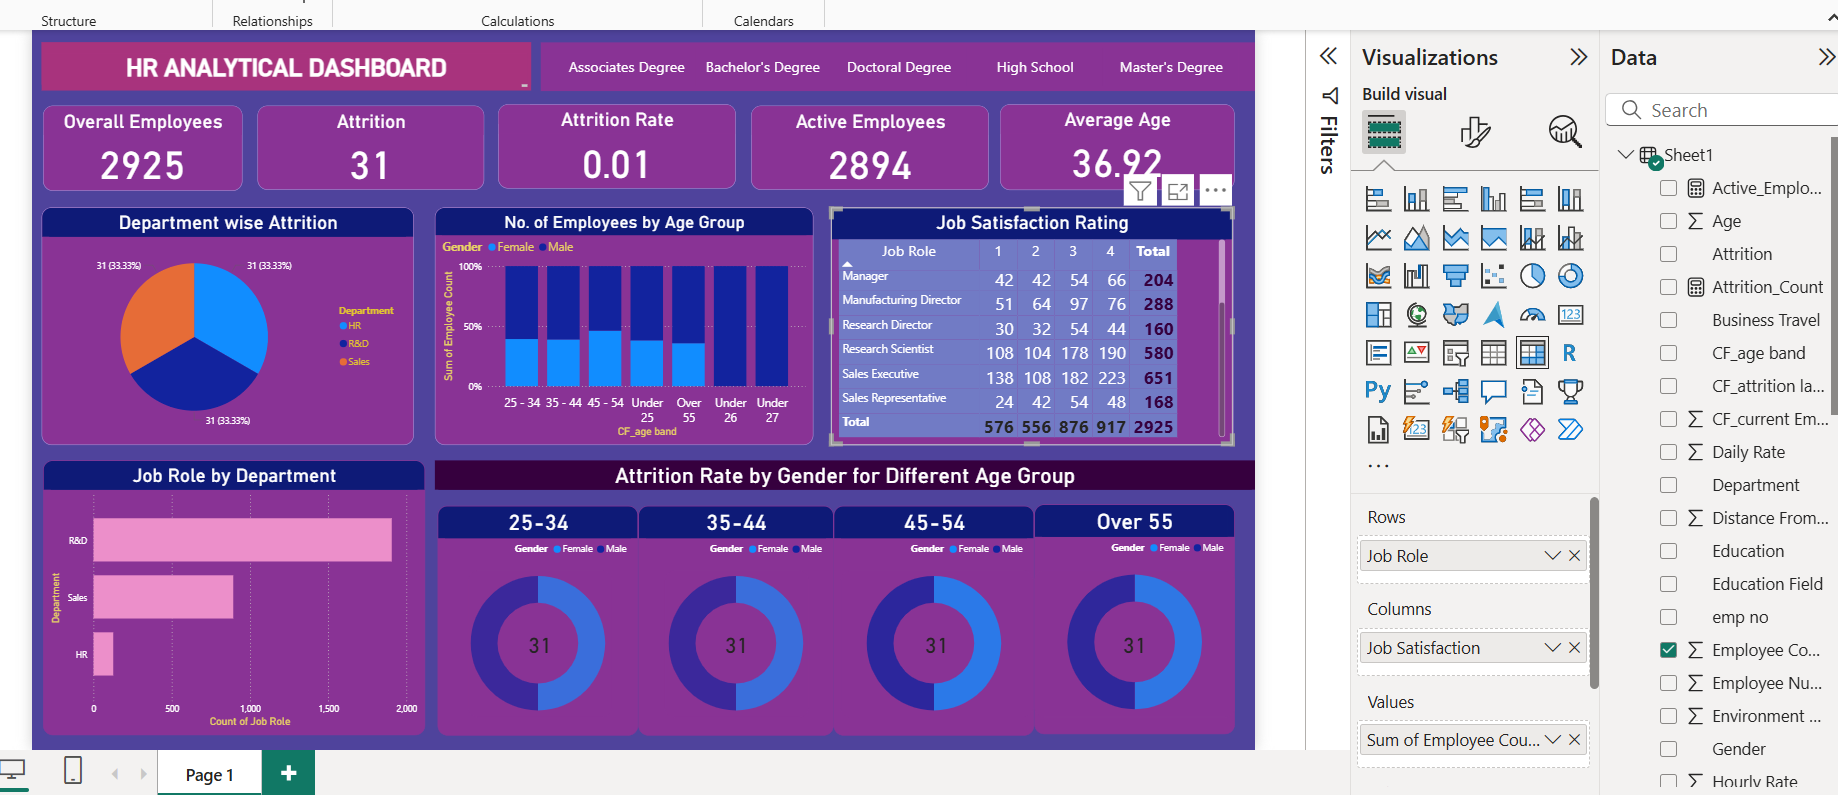

This screenshot's page, from the dashboard's own definition file:
{"tool":"powerbi","page":{"name":"Page 1","canvas":[1700,1000],"ordinal":0},"visuals":[{"type":"card","title":"Overall Employees","fields":{"Values":["Sum(Sheet1.Employee Count)"]},"box":[15.3,105.1,277,118.4],"z":0},{"type":"card","title":"Attrition","fields":{"Values":["Sum(Sheet2.Attrition Count)"]},"box":[312.5,105.7,314.7,116.9],"z":1000},{"type":"card","title":"Attrition Rate","fields":{"Values":["Sheet1.Attrition_Count"]},"box":[647.5,103.4,330.5,116.9],"z":2000},{"type":"card","title":"Active Employees","fields":{"Values":["Sheet1.Active_Employees"]},"box":[998.2,105.7,330.5,116.9],"z":3000},{"type":"card","title":"Average Age","fields":{"Values":["Avg(Sheet1.Age)"]},"box":[1344.4,103.4,326,119.2],"z":4000},{"type":"slicer","fields":{"Values":["Sheet1.Education"]},"box":[705.9,18,993.7,67.4],"z":5000},{"type":"pieChart","title":"Department wise Attrition","fields":{"Category":["Sheet1.Department"],"Y":["Sum(Sheet2.Attrition Count)"]},"box":[13.5,247.3,517.1,330.5],"z":6000},{"type":"hundredPercentStackedColumnChart","title":"No. of Employees by Age Group","fields":{"Category":["Sheet1.CF_age band"],"Y":["Sum(Sheet1.Employee Count)"],"Series":["Sheet1.Gender"]},"box":[559.8,247.3,526.1,330.5],"z":7000},{"type":"pivotTable","title":"Job Satisfaction Rating","fields":{"Rows":["Sheet1.Job Role"],"Columns":["Sheet1.Job Satisfaction"],"Values":["Sum(Sheet1.Employee Count)"]},"box":[1110.6,247.3,559,330.5],"z":8000},{"type":"barChart","title":"Job Role by Department","fields":{"Y":["CountNonNull(Sheet1.Job Role)"],"Category":["Sheet1.Department"]},"box":[15.3,597.9,531,382],"z":9000},{"type":"textbox","title":"Attrition Rate by Gender for Different Age Group","box":[559.8,598,1139.8,40.5],"z":10000},{"type":"donutChart","title":"35-44","fields":{"Category":["Sheet1.Gender"],"Y":["Sum(Sheet2.Attrition Count)"],"Series":["Sheet1.CF_age band"]},"box":[842.4,660.9,271.2,319],"z":11000},{"type":"donutChart","title":"45-54","fields":{"Category":["Sheet1.Gender"],"Series":["Sheet1.CF_age band"],"Y":["Sum(Sheet2.Attrition Count)"]},"box":[1113.6,660.9,278.9,319],"z":12000},{"type":"donutChart","title":"Over 55","fields":{"Y":["Sum(Sheet2.Attrition Count)"],"Category":["Sheet1.Gender"],"Series":["Sheet1.CF_age band"]},"box":[1391.6,658.7,278.8,319.2],"z":13000},{"type":"textbox","title":"HR ANALYTICAL DASHBOARD","box":[13.4,17.2,680,66.9],"z":14000},{"type":"card","title":"35-44","fields":{"Values":["Sum(Sheet2.Attrition Count)"]},"box":[878.6,750.7,200.6,204.4],"z":15000},{"type":"card","title":"45-54","fields":{"Values":["Sum(Sheet2.Attrition Count)"]},"box":[1123.1,750.7,267.4,204.4],"z":16000},{"type":"card","title":"Over 55","fields":{"Values":["Sum(Sheet2.Attrition Count)"]},"box":[1392.5,750.7,278.9,204.4],"z":17000},{"type":"donutChart","title":"25-34","fields":{"Y":["Sum(Sheet2.Attrition Count)"],"Category":["Sheet1.Gender"],"Series":["Sheet1.CF_age band"]},"box":[563.5,660.9,278.9,319],"z":18000},{"type":"card","title":"35-44","fields":{"Values":["Sum(Sheet2.Attrition Count)"]},"box":[605.5,750.7,200.6,204.4],"z":19000}]}

Visuals, with their boxes on the page's 1700x1000 design canvas (x1, y1, x2, y2). These are canvas units, not pixel positions in the 1838x795 screenshot, which may show the page scaled, cropped or inside an application window:
"Overall Employees" card: 15, 105, 292, 224
"Attrition" card: 312, 106, 627, 223
"Attrition Rate" card: 648, 103, 978, 220
"Active Employees" card: 998, 106, 1329, 223
"Average Age" card: 1344, 103, 1670, 223
slicer - Sheet1.Education: 706, 18, 1700, 85
"Department wise Attrition" pieChart: 14, 247, 531, 578
"No. of Employees by Age Group" hundredPercentStackedColumnChart: 560, 247, 1086, 578
"Job Satisfaction Rating" pivotTable: 1111, 247, 1670, 578
"Job Role by Department" barChart: 15, 598, 546, 980
"Attrition Rate by Gender for Different Age Group" textbox: 560, 598, 1700, 638
"35-44" donutChart: 842, 661, 1114, 980
"45-54" donutChart: 1114, 661, 1392, 980
"Over 55" donutChart: 1392, 659, 1670, 978
"HR ANALYTICAL DASHBOARD" textbox: 13, 17, 693, 84
"35-44" card: 879, 751, 1079, 955
"45-54" card: 1123, 751, 1390, 955
"Over 55" card: 1392, 751, 1671, 955
"25-34" donutChart: 564, 661, 842, 980
"35-44" card: 606, 751, 806, 955
